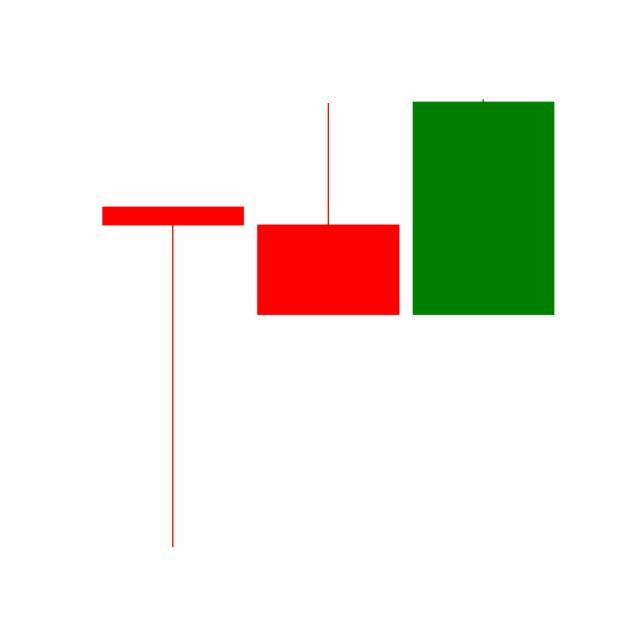Marubozu: (406, 98, 562, 318)
